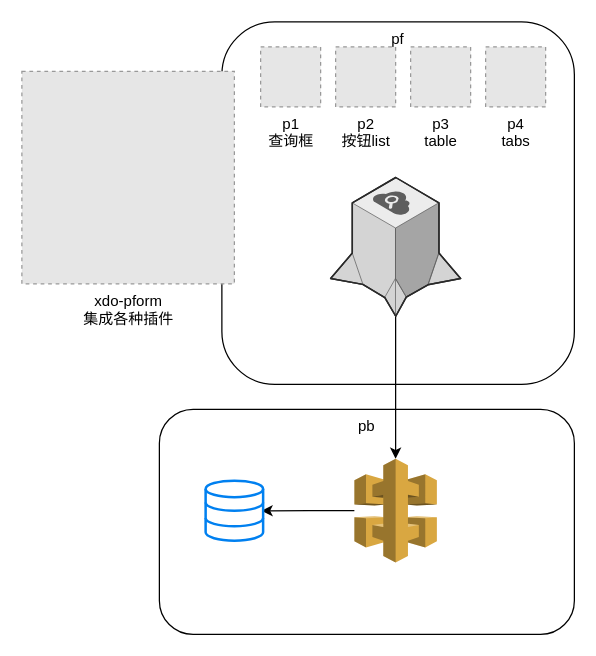
Some shapes in this 596 by 656 pixel diagram are drawn without their labels. Grey dashed boxes stand in for pictures. The shapes that lost their labels are listed below. From the top down, each one's centre as x and y in pixels, then its label:
[395,246]: xdo-pform-engine 组件数据处理、配置解析等
[234,510]: configdb
[395,510]: xdo-pform-api 插件式后端api集合
